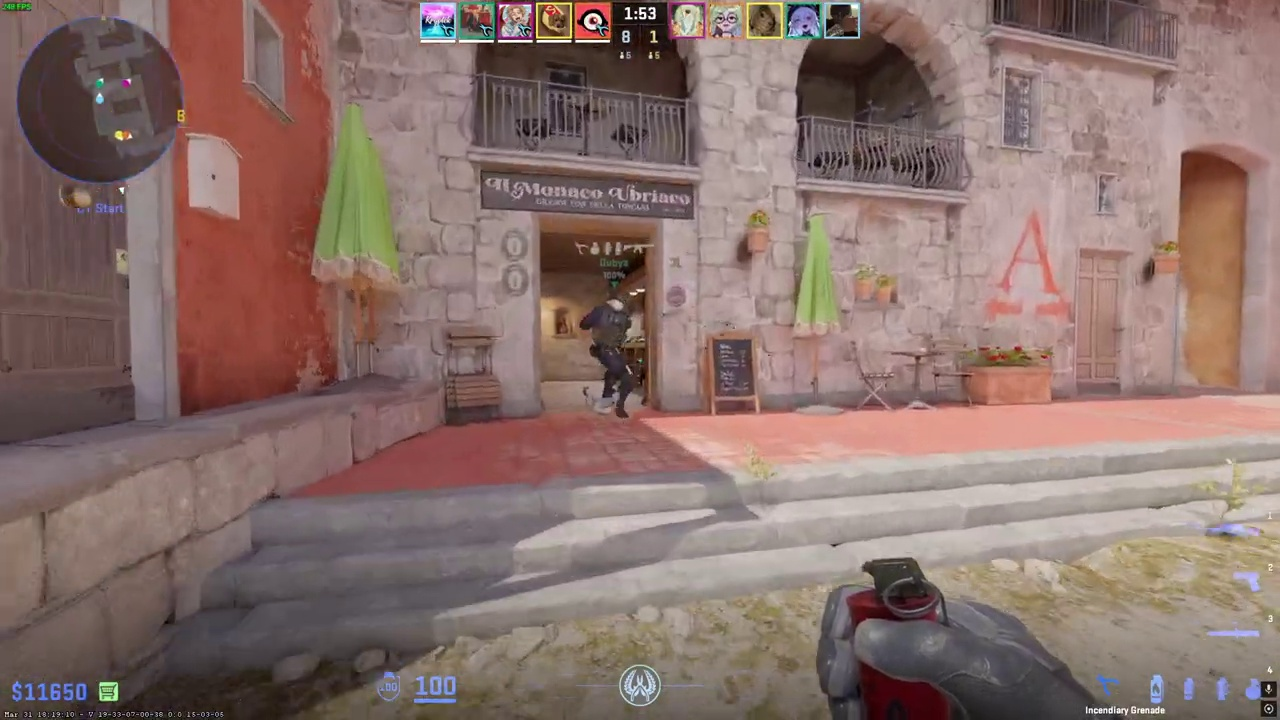CT: (583, 291, 636, 419)
